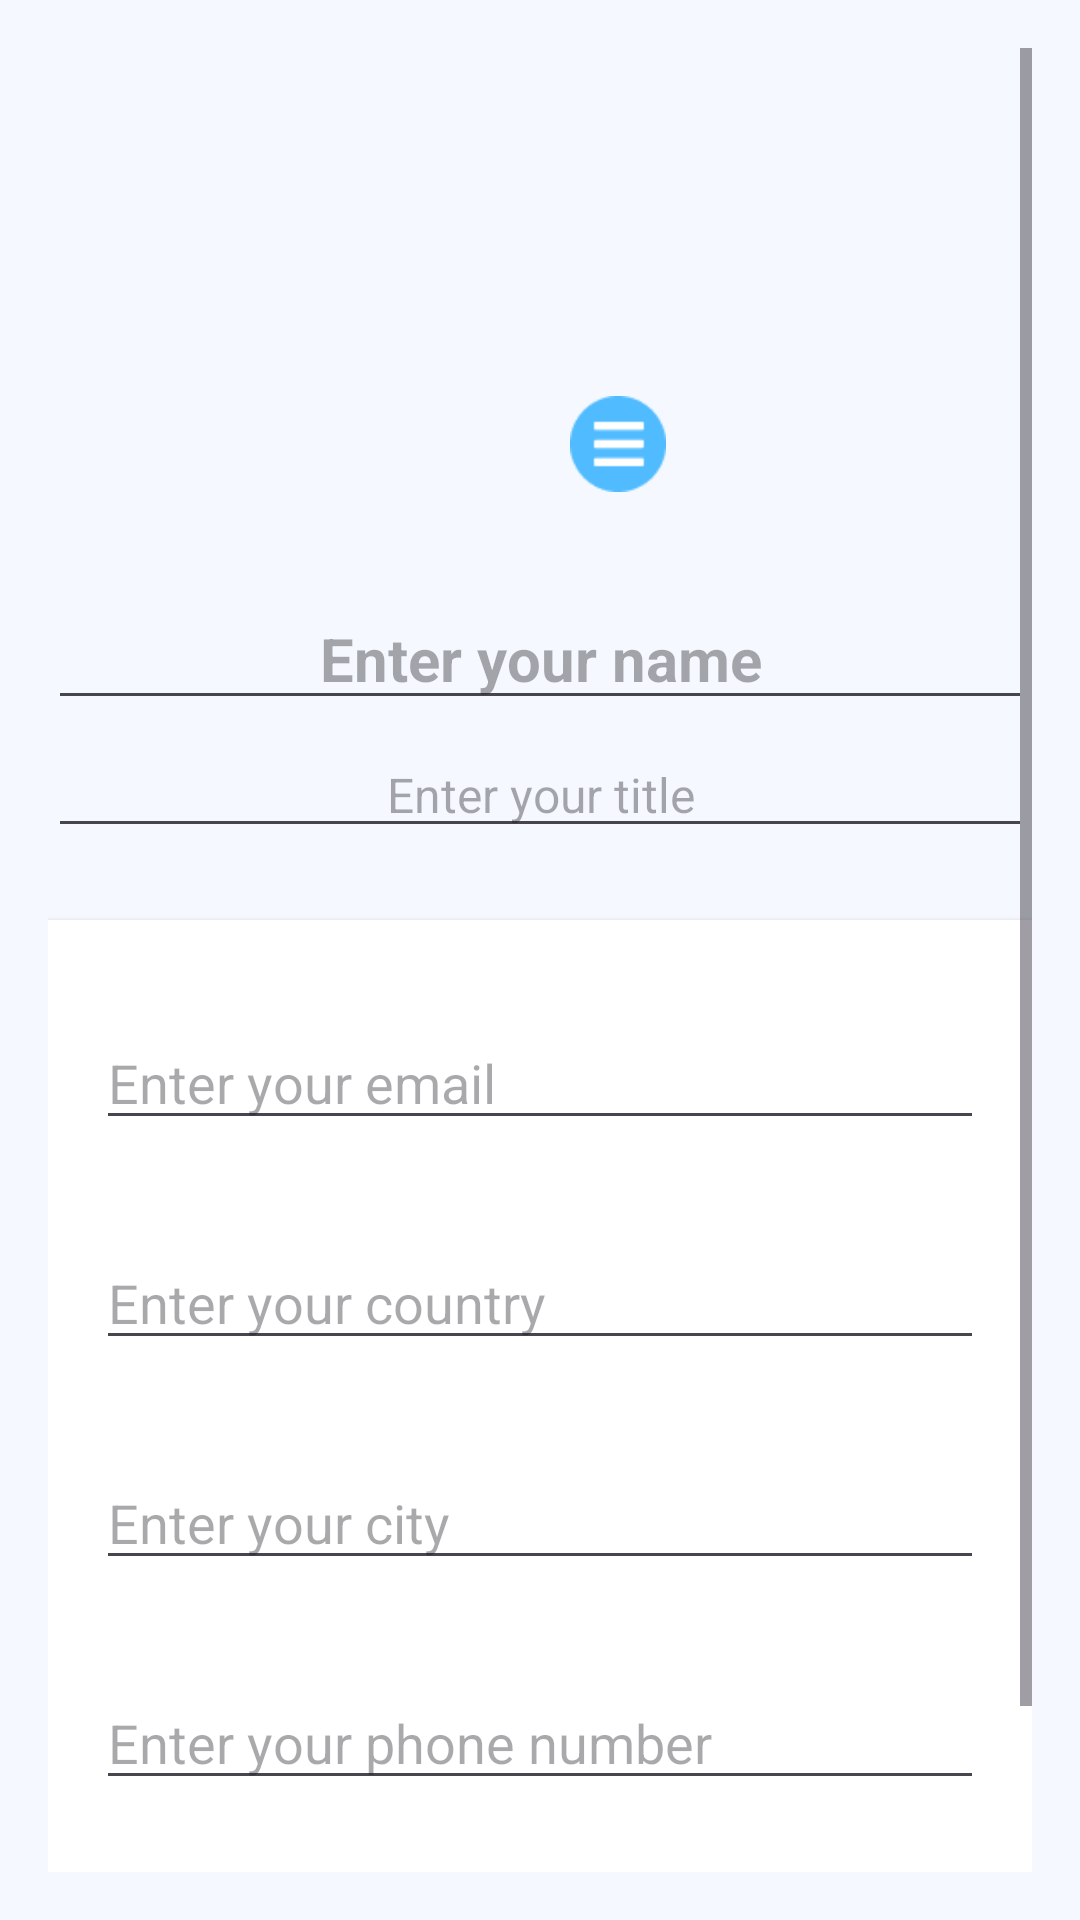

Icon bounding boxes for this 1080 x 1920 phone screenshot, format [left=x1, top=y1, right=x2, bottom=y2]:
menu: [left=570, top=396, right=666, bottom=492]
